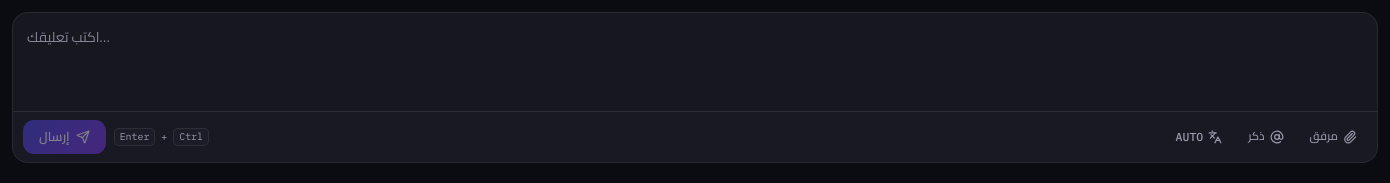
CommentComposer — sending › stays busy until the caller finishes, uploads included
This screenshot has width=1390, height=183.
Type "مع مرفق" into the text box at (695,62), box [13,13,1377,111]
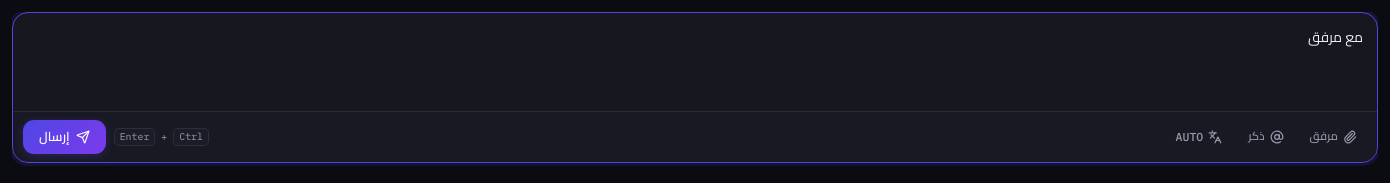
Type keys "{Control>}{Enter}{/Control}"
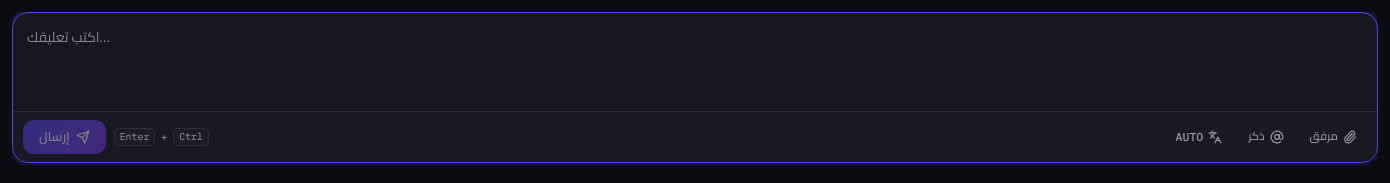
expect the button "إرسال" is disabled: met, box [23,120,106,154]
expect the text box is empty: met, box [13,13,1377,111]
